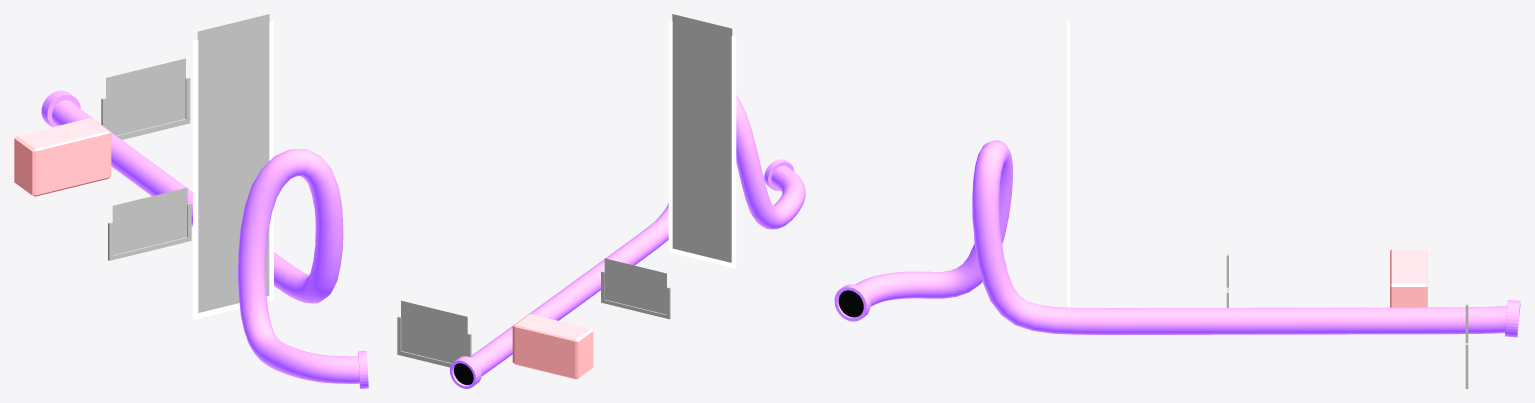
The model's file is LevelObstacles.fbx.
The picture shows the model from 3 angles, left to right: view 1: azimuth 30°, elevation 25°; view 2: azimuth 150°, elevation 25°; view 3: azimuth 270°, elevation 25°; orthographic projection. The views are drawn at different scales.
Visible parts, largest first — view 1: Wall_2, Pipe, BreakableBlock, Wall, Wall_1, Cube__2__2, Cube__1__2, Start, Cube, Cube_1, End; view 2: Wall_2, Pipe, BreakableBlock, Wall, Wall_1, Cube__2__2, Cube__1__2, Start, End; view 3: Pipe, BreakableBlock, End, Cube__1__2.
Part boxes in pixels (x1,y1,x2,y2): Wall_2: (197, 14, 269, 312); Pipe: (52, 100, 359, 383); BreakableBlock: (14, 118, 111, 196); Wall: (106, 58, 185, 135); Wall_1: (112, 187, 187, 254); Cube__2__2: (193, 39, 198, 319); Cube__1__2: (269, 21, 273, 300); Start: (41, 90, 80, 127); Cube: (116, 119, 186, 139); Cube_1: (113, 237, 188, 259); End: (358, 351, 368, 388); Wall_2: (672, 14, 732, 262); Pipe: (469, 95, 805, 375); BreakableBlock: (512, 314, 593, 379); Wall: (401, 300, 467, 363); Wall_1: (604, 258, 666, 314); Cube__2__2: (731, 35, 736, 268); Cube__1__2: (668, 20, 672, 252); Start: (450, 356, 481, 388); End: (764, 159, 794, 190); Pipe: (855, 140, 1507, 334); BreakableBlock: (1390, 249, 1427, 307); End: (834, 284, 870, 321); Cube__1__2: (1067, 56, 1069, 307).
Bounding box in the file's own units: 1869 × 2533 × 5592.
7 materials, 2 textured.
